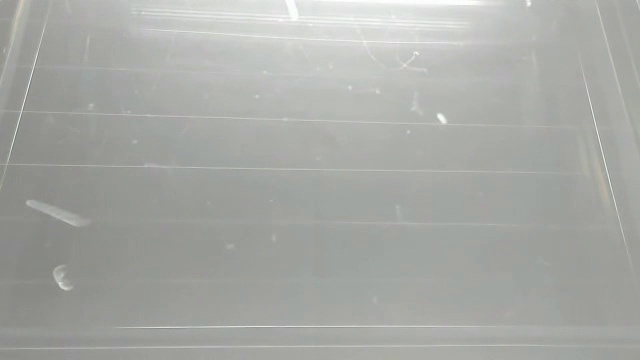alpha: (23, 196, 96, 231), (50, 260, 80, 291), (282, 1, 302, 24), (433, 108, 451, 130), (522, 1, 534, 9)
